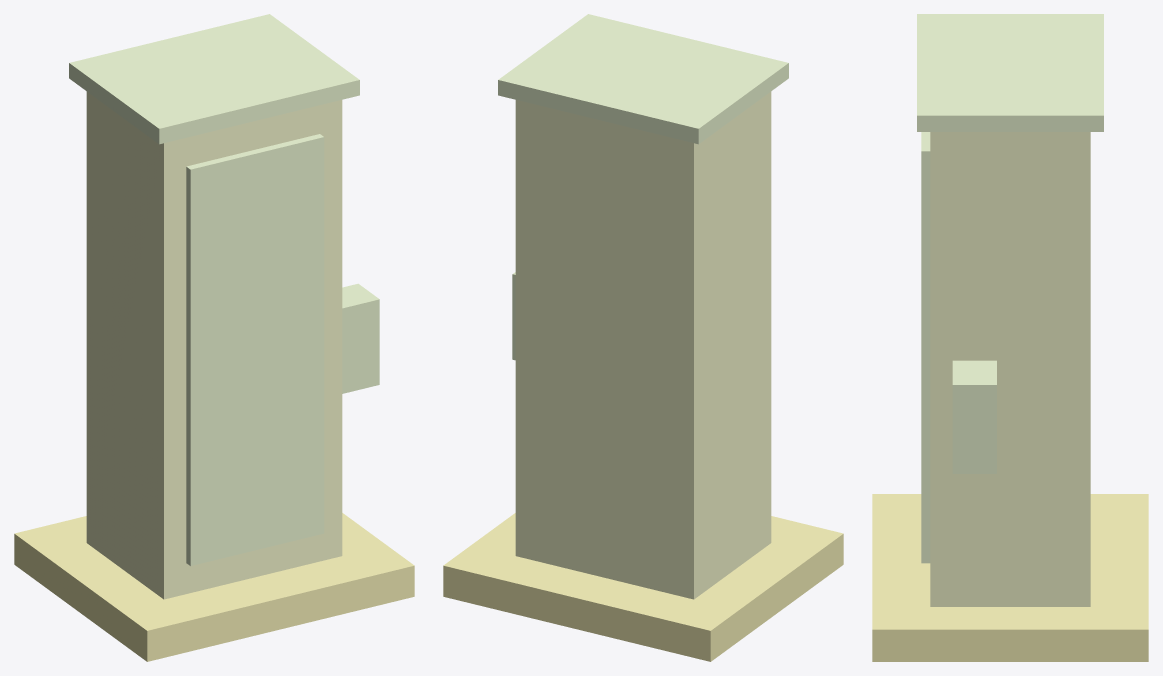
The model's file is furniture_signal_controller_cabinet_single.glb.
3 views of the same model, side by side, from view 1: azimuth 30°, elevation 25°; view 2: azimuth 150°, elevation 25°; view 3: azimuth 270°, elevation 25° (orthographic). The views are drawn at different scales.
Parts seen in each view (by area): view 1: cabinet, door, pad, roof_cap, meter_box; view 2: cabinet, pad, roof_cap; view 3: cabinet, pad, roof_cap, meter_box, door.
Boxes of the visible parts, x1,y1,x2,y2 form: cabinet: [86, 91, 342, 599]; door: [186, 134, 324, 565]; pad: [14, 513, 414, 661]; roof_cap: [69, 14, 359, 144]; meter_box: [342, 283, 379, 393]; cabinet: [515, 91, 771, 599]; pad: [443, 513, 843, 661]; roof_cap: [498, 14, 788, 144]; cabinet: [930, 132, 1090, 606]; pad: [872, 494, 1148, 661]; roof_cap: [917, 14, 1103, 131]; meter_box: [952, 360, 996, 473]; door: [921, 132, 930, 563].
Size of the model in its own units: 0.73 by 1.31 by 0.62.
